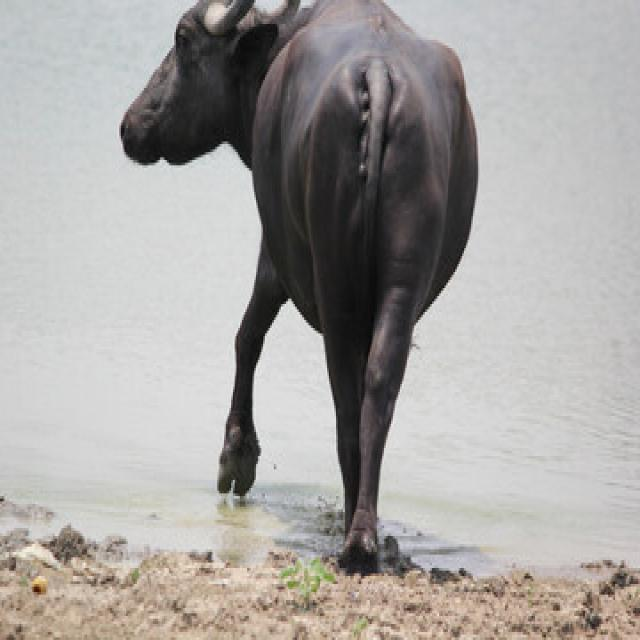Buffalo: (117, 0, 480, 568)
